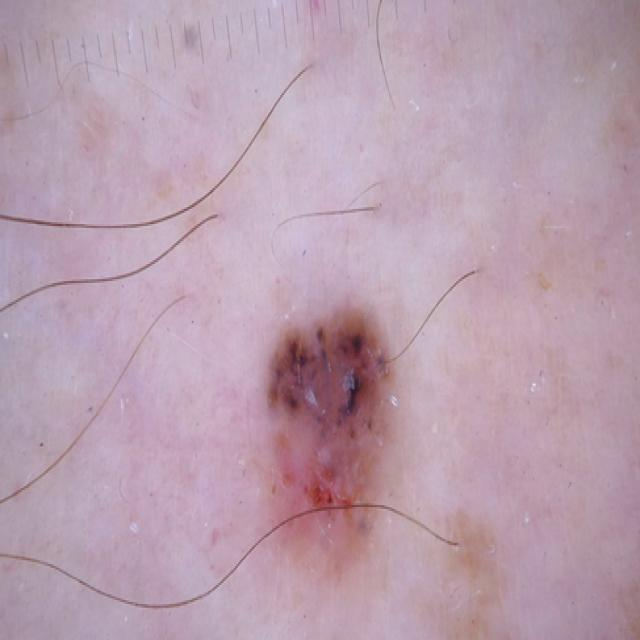Carcinoma: (246, 279, 439, 575)
